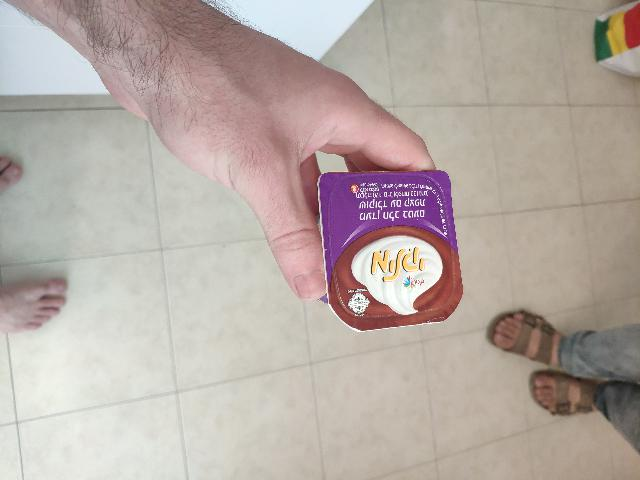milky: (319, 148, 467, 333)
